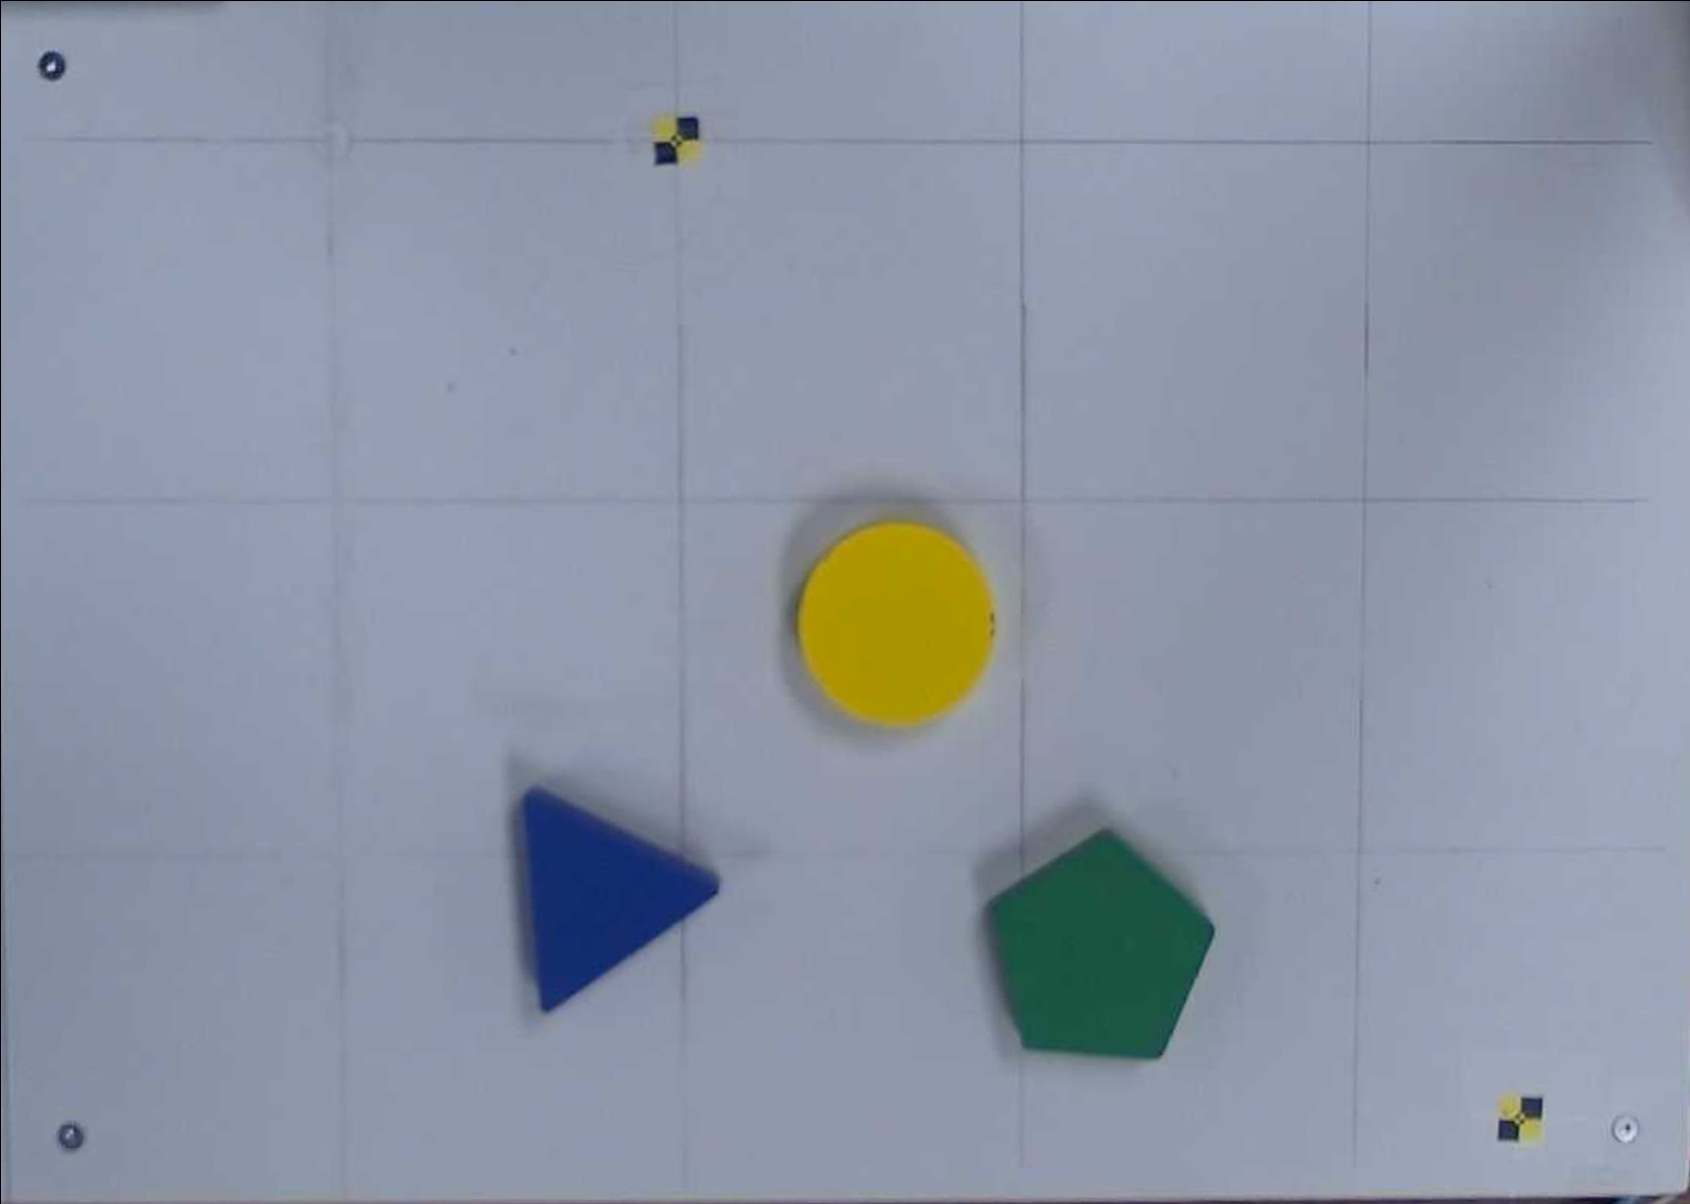Circle: (797, 520, 993, 727)
Pentagon: (985, 827, 1214, 1059)
Triangle: (523, 786, 719, 1014)
